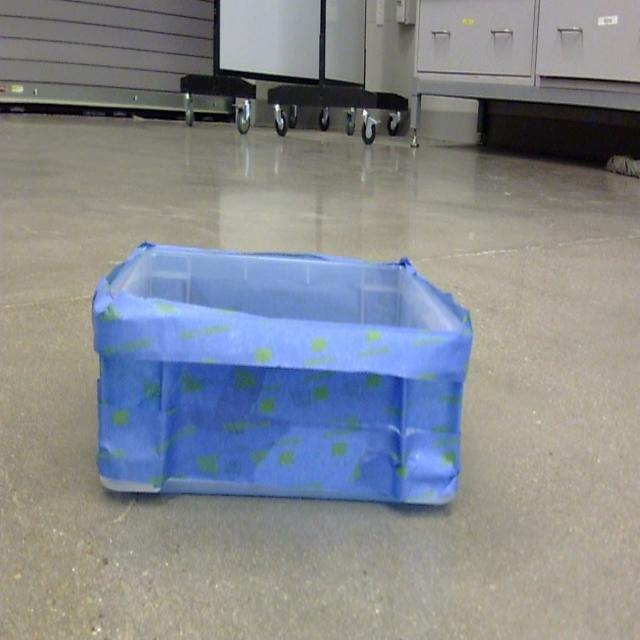bucket: (90, 242, 474, 509)
